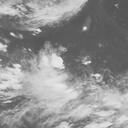cyclone: (25, 50, 80, 103)
